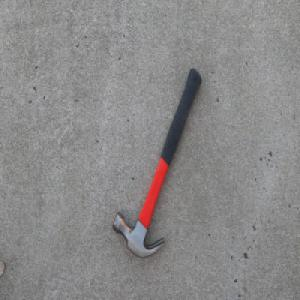Hammer: (112, 67, 202, 258)
